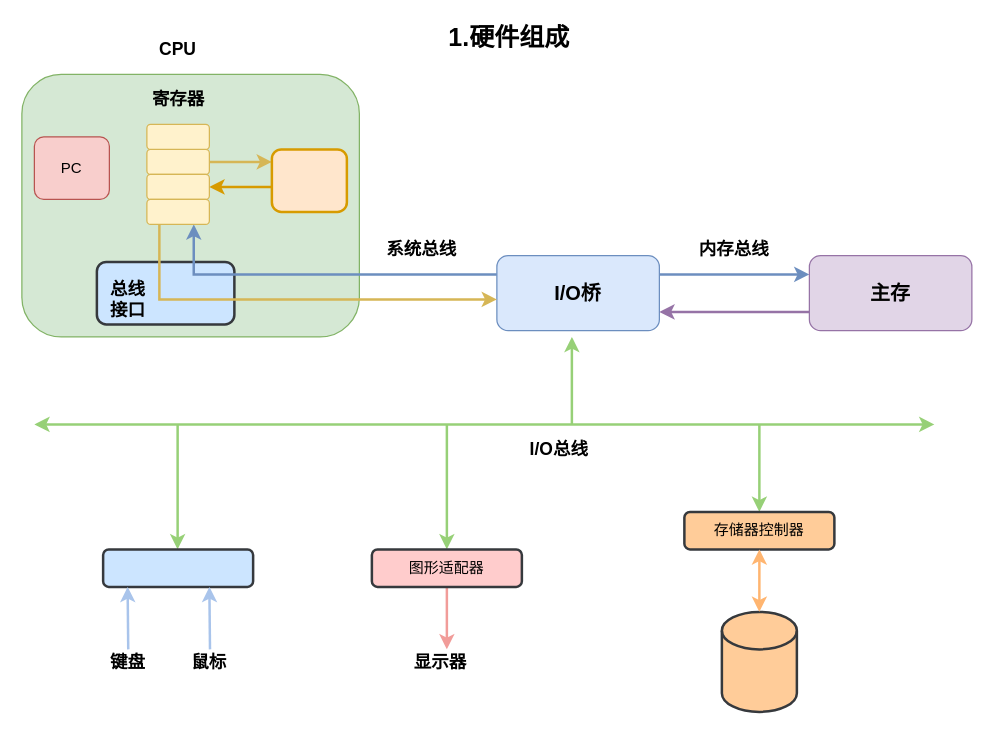
Image size: 994x734. Some labels were removed from this diagram. Each missing label, with the centre of its shape:
ALU: point (309, 180)
USB控制器: point (177, 568)
磁盘: point (759, 661)
